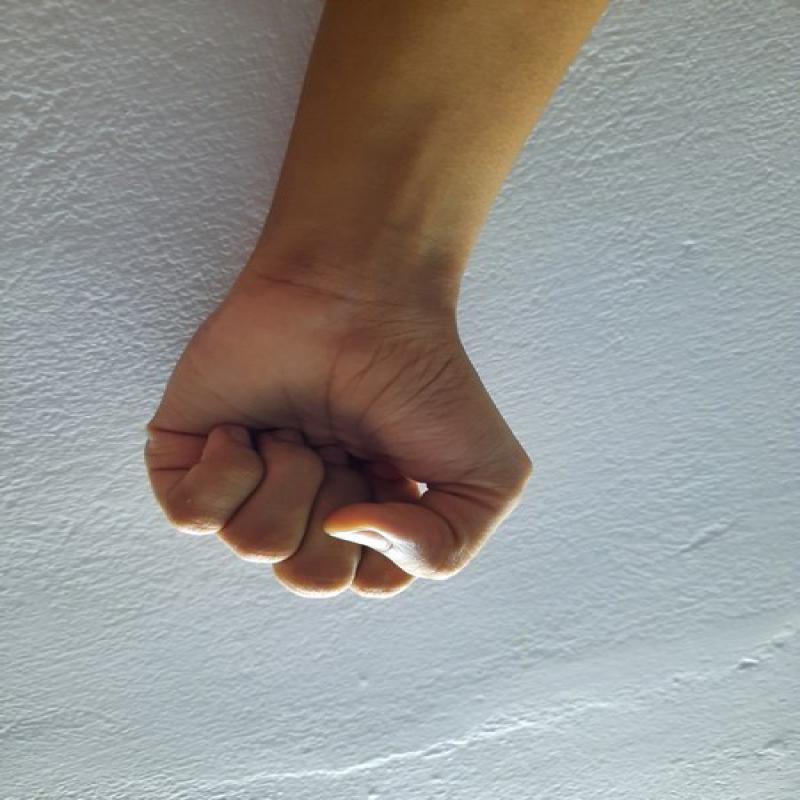Mushti: (130, 248, 541, 619)
